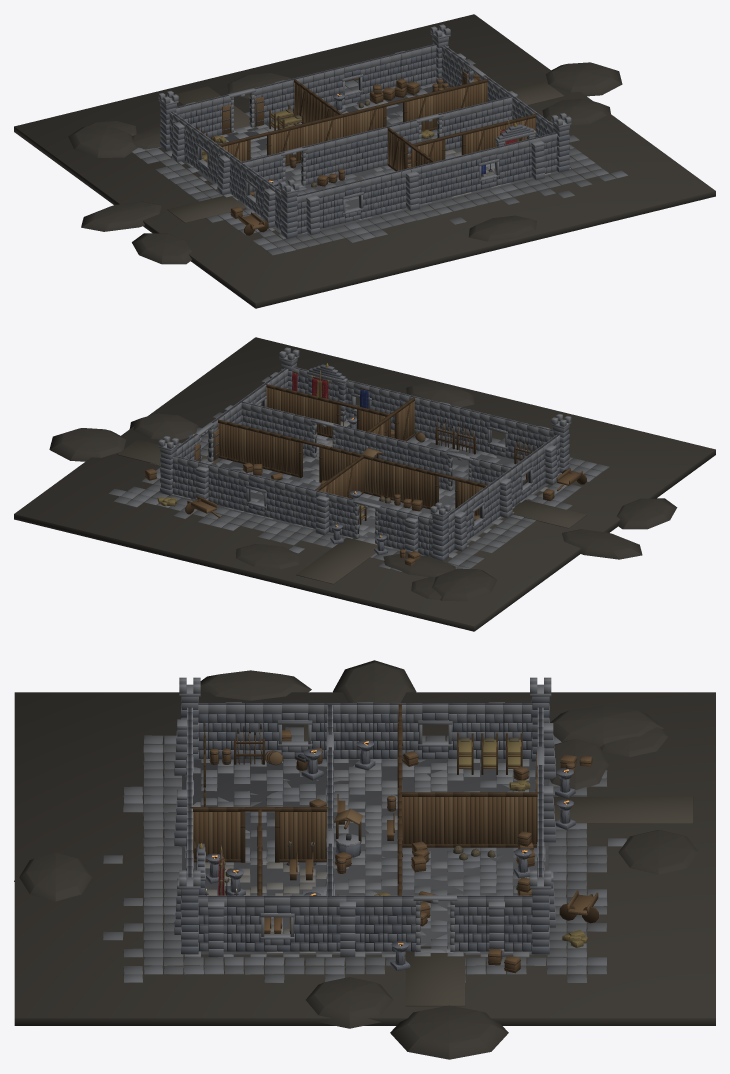
File: compound.glb
3 renders of one model, top to bottom at view 1: azimuth 30°, elevation 25°; view 2: azimuth 150°, elevation 25°; view 3: azimuth 270°, elevation 25°, orthographic. The views are drawn at different scales.
Parts seen in each view (by area): view 1: Compound_Ground, Compound_Apron, Compound_Trim, Compound_Dressing, Compound_Flagstones, Compound_FloorBed, DoorFrame_gate_main, WindowFrame_win_s1, WindowFrame_win_n2, WindowFrame_win_n1, Compound_ChapelTrim, Panel_hall_n_1_6; view 2: Compound_Ground, Compound_Apron, Compound_Trim, Compound_Dressing, Compound_Flagstones, Compound_FloorBed, Compound_ChapelTrim, DoorFrame_gate_postern, WindowFrame_win_s1, WindowFrame_win_n1; view 3: Compound_Ground, Compound_Apron, Compound_Flagstones, Compound_Dressing, Compound_FloorBed, Compound_Trim, WindowFrame_win_e1, WindowFrame_win_w1, WindowFrame_win_w2, Panel_ext_e_1_5, Panel_ext_e_2_1, Panel_ext_e_0_3 (+40 smaller).
Boxes of the visible parts, left/top/right/bottom form: Compound_Ground: left=14, top=14, right=715, bottom=308; Compound_Apron: left=132, top=59, right=627, bottom=255; Compound_Trim: left=158, top=24, right=571, bottom=238; Compound_Dressing: left=197, top=74, right=517, bottom=235; Compound_Flagstones: left=164, top=82, right=570, bottom=239; Compound_FloorBed: left=162, top=86, right=568, bottom=238; DoorFrame_gate_main: left=222, top=88, right=264, bottom=134; WindowFrame_win_s1: left=342, top=62, right=363, bottom=104; WindowFrame_win_n2: left=478, top=147, right=499, bottom=189; WindowFrame_win_n1: left=343, top=180, right=363, bottom=222; Compound_ChapelTrim: left=481, top=122, right=535, bottom=174; Panel_hall_n_1_6: left=366, top=129, right=378, bottom=169; Compound_Ground: left=14, top=337, right=715, bottom=631; Compound_Apron: left=108, top=376, right=609, bottom=571; Compound_Trim: left=158, top=347, right=571, bottom=561; Compound_Dressing: left=145, top=411, right=586, bottom=565; Compound_Flagstones: left=172, top=418, right=561, bottom=558; Compound_FloorBed: left=169, top=421, right=561, bottom=557; Compound_ChapelTrim: left=292, top=363, right=369, bottom=421; DoorFrame_gate_postern: left=194, top=422, right=219, bottom=464; WindowFrame_win_s1: left=246, top=474, right=266, bottom=516; WindowFrame_win_n1: left=487, top=415, right=507, bottom=456; Compound_Ground: left=14, top=660, right=715, bottom=1059; Compound_Apron: left=103, top=727, right=626, bottom=982; Compound_Flagstones: left=184, top=758, right=545, bottom=957; Compound_Dressing: left=203, top=722, right=598, bottom=973; Compound_FloorBed: left=182, top=758, right=548, bottom=954; Compound_Trim: left=174, top=677, right=555, bottom=956; WindowFrame_win_e1: left=260, top=895, right=294, bottom=951; WindowFrame_win_w1: left=418, top=703, right=452, bottom=758; WindowFrame_win_w2: left=278, top=703, right=312, bottom=758; Panel_ext_e_1_5: left=309, top=895, right=327, bottom=951; Panel_ext_e_2_1: left=227, top=895, right=245, bottom=951; Panel_ext_e_0_3: left=468, top=895, right=486, bottom=951.
Size of the model in its own units: 53.9 by 5.49 by 40.03.
